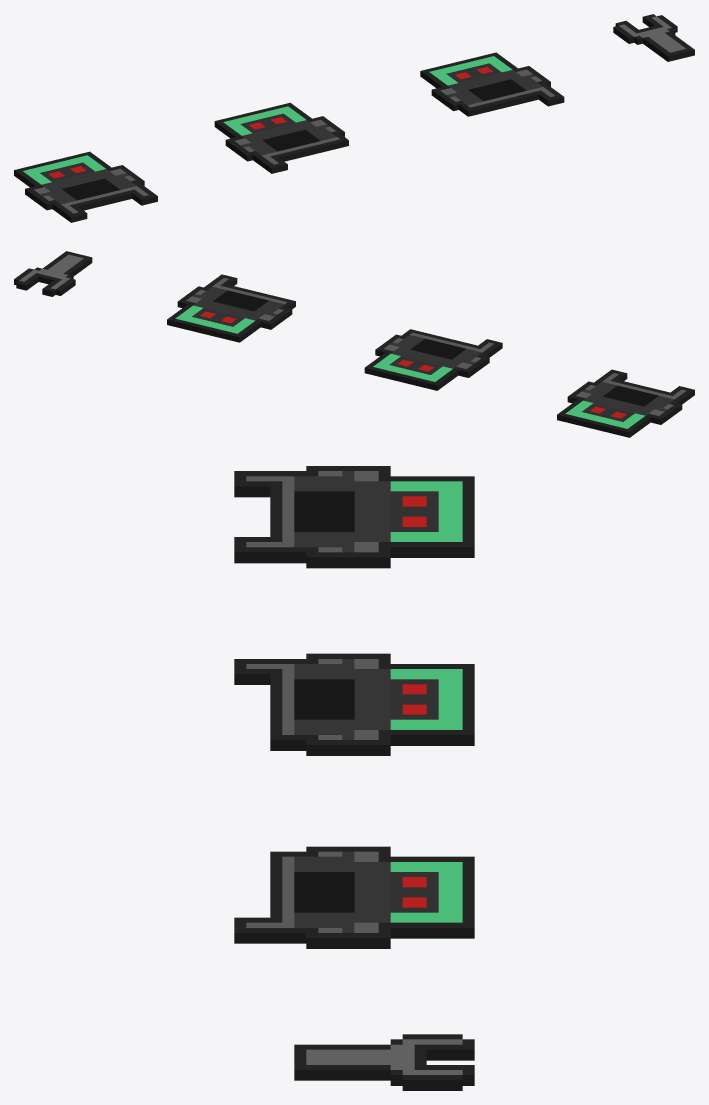
Rendered from guy.dae.
3 views of the same model, one above another, from view 1: azimuth 30°, elevation 25°; view 2: azimuth 150°, elevation 25°; view 3: azimuth 270°, elevation 25° (orthographic). The views are drawn at different scales.
Parts seen in each view (by area): view 1: guy_idle, guy_leftstep, guy_rightstep, wrench; view 2: guy_idle, guy_rightstep, guy_leftstep, wrench; view 3: guy_idle, guy_leftstep, guy_rightstep, wrench.
Part boxes in pixels (x1,y1,x2,y2): guy_idle: [14, 151, 157, 222]; guy_leftstep: [420, 52, 564, 116]; guy_rightstep: [214, 102, 348, 173]; wrench: [613, 14, 694, 61]; guy_idle: [557, 369, 694, 437]; guy_rightstep: [364, 329, 502, 390]; guy_leftstep: [167, 274, 295, 342]; wrench: [14, 251, 92, 296]; guy_idle: [234, 466, 474, 568]; guy_leftstep: [234, 846, 474, 948]; guy_rightstep: [234, 653, 474, 755]; wrench: [294, 1034, 474, 1090].
Size of the model in its own units: 121 by 1 by 20.
